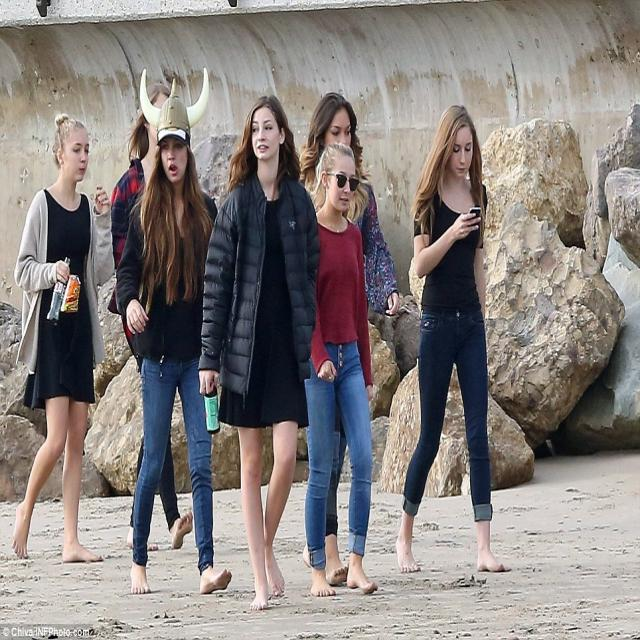body: (110, 60, 236, 600), (195, 90, 324, 615), (394, 102, 513, 577), (295, 90, 403, 588), (9, 107, 118, 567), (107, 75, 198, 557), (296, 141, 381, 600)
